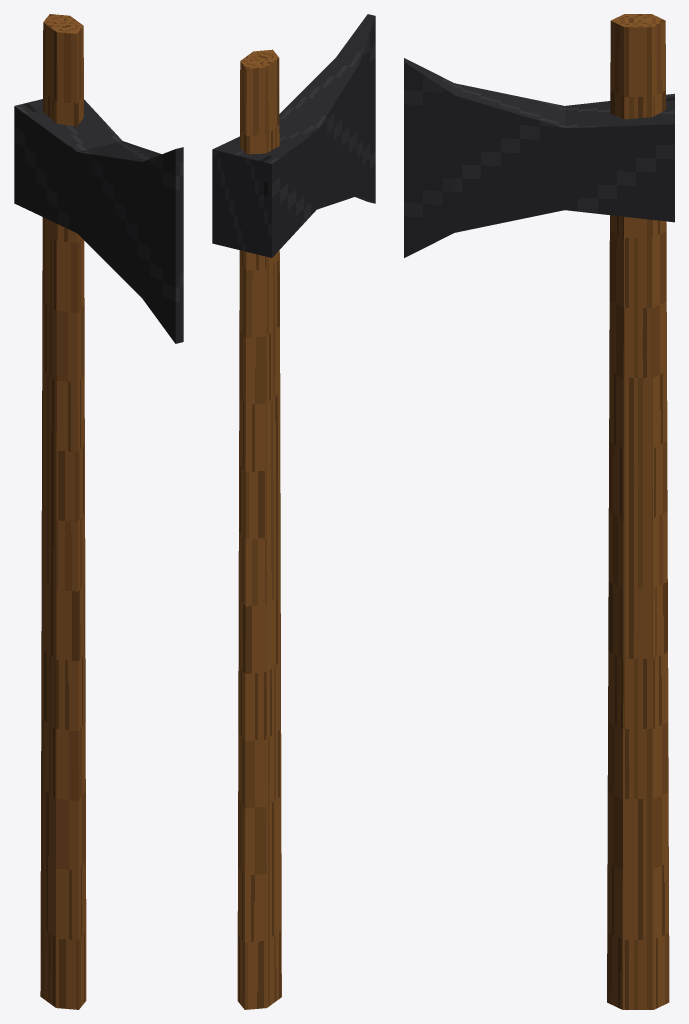
Rendered from hacha_mano.glb.
3 views of the same model, side by side, from view 1: azimuth 30°, elevation 25°; view 2: azimuth 150°, elevation 25°; view 3: azimuth 270°, elevation 25° (orthographic). The views are drawn at different scales.
Parts seen in each view (by area): view 1: mango, cabeza; view 2: mango, cabeza; view 3: mango, cabeza.
Part boxes in pixels (left/top/right/bottom): mango: left=40, top=14, right=86, bottom=1009; cabeza: left=14, top=99, right=183, bottom=343; mango: left=237, top=49, right=281, bottom=1009; cabeza: left=212, top=14, right=375, bottom=257; mango: left=607, top=14, right=669, bottom=1009; cabeza: left=404, top=58, right=674, bottom=257.
Size of the model in its own units: 0.04 by 0.6 by 0.15.
1 material, 1 textured.
